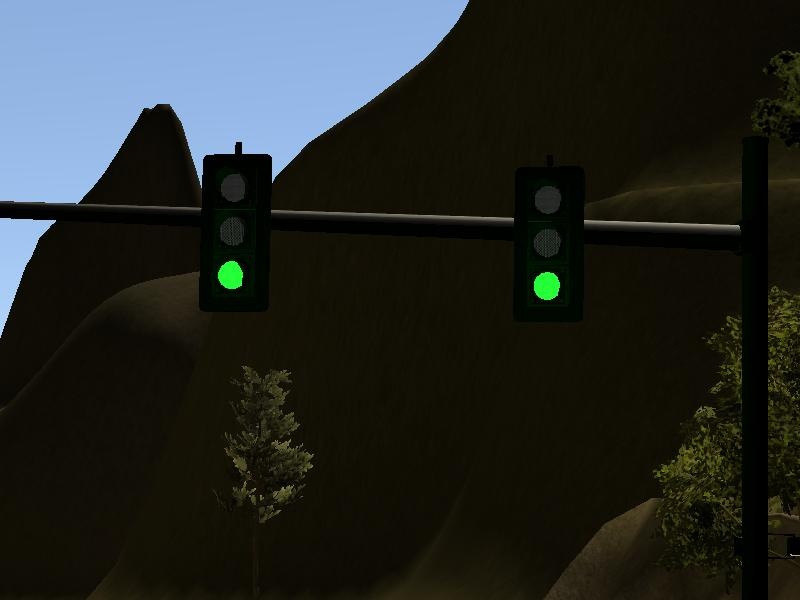green: (185, 145, 274, 321), (516, 152, 589, 334)
